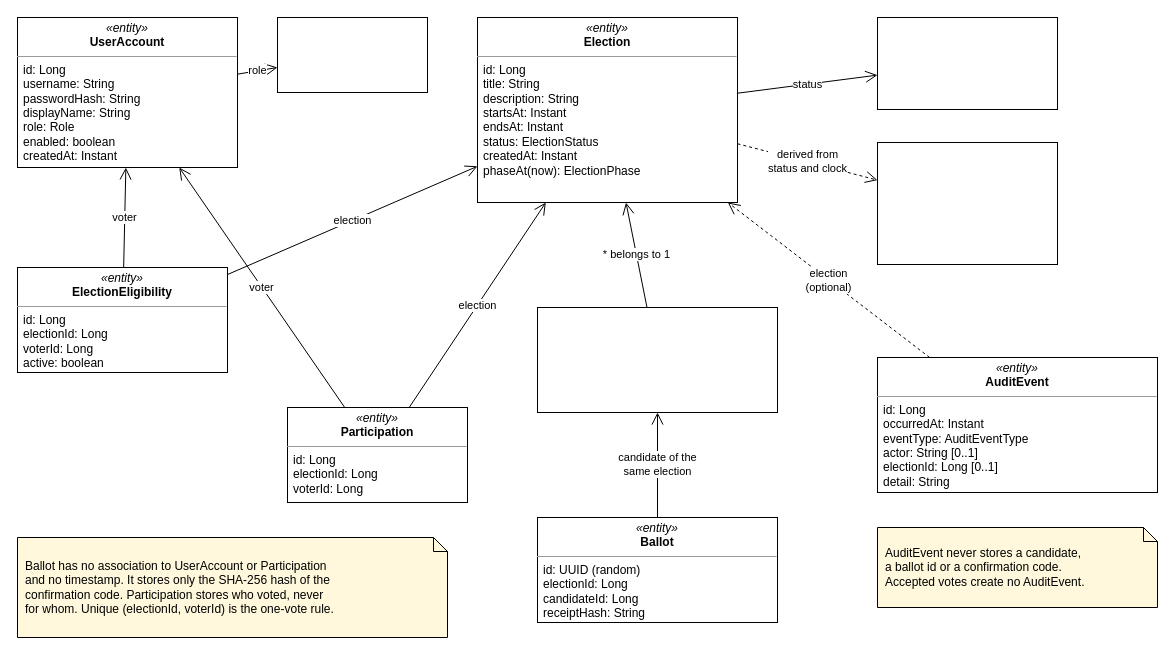
The diagram is 1175 pixels wide and 655 high, and some of its shapes have lost their labels. The shapes that lost their labels are listed below. From the top down, each one's centre as x and y in pixels, then its label:
At point (352, 54): "«enumeration» Role ADMIN VOTER".
At point (967, 63): "«enumeration» ElectionStatus DRAFT OPEN CLOSED".
At point (967, 203): "«enumeration» ElectionPhase DRAFT SCHEDULED VOTING ENDED CLOSED".
At point (657, 359): "«entity» Candidate id: Long electionId: Long name: String biography: String".
